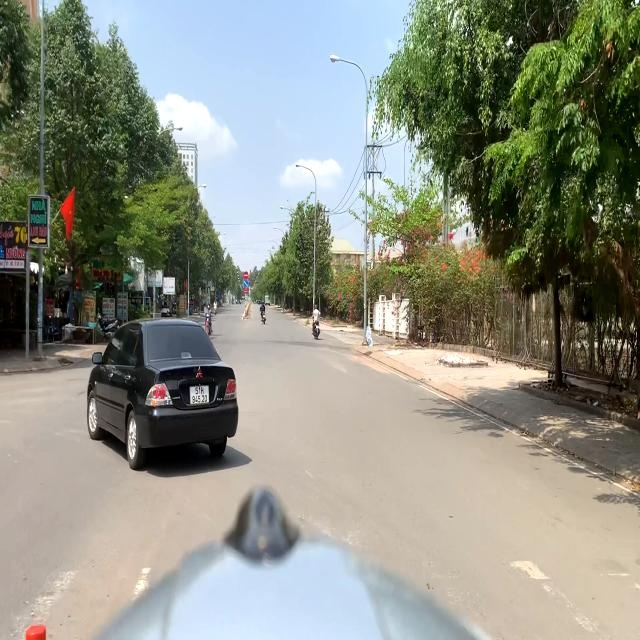bien_hieu_lenh: (243, 279, 248, 288), (244, 271, 248, 279)
